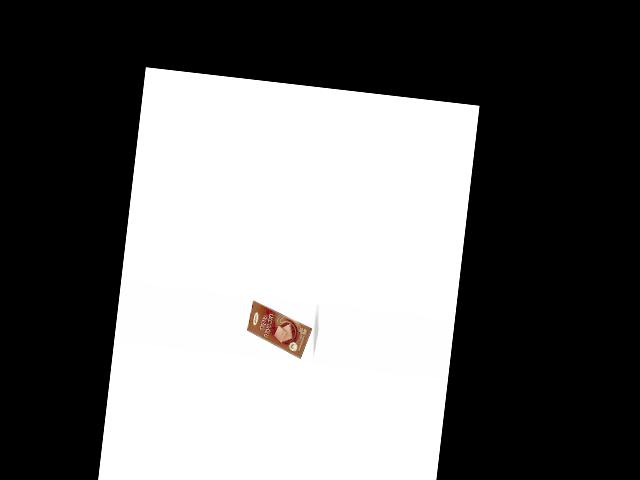chocolate: (243, 299, 317, 362)
